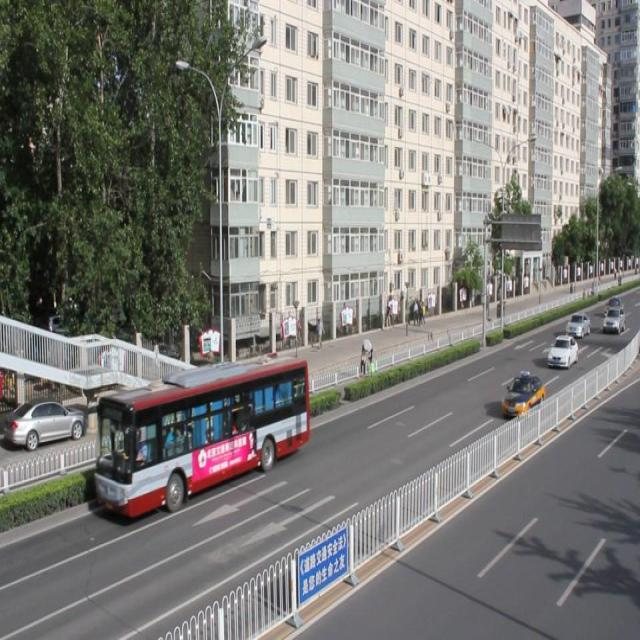car: (500, 372, 544, 417), (546, 333, 577, 367)
van: (95, 360, 307, 522)
